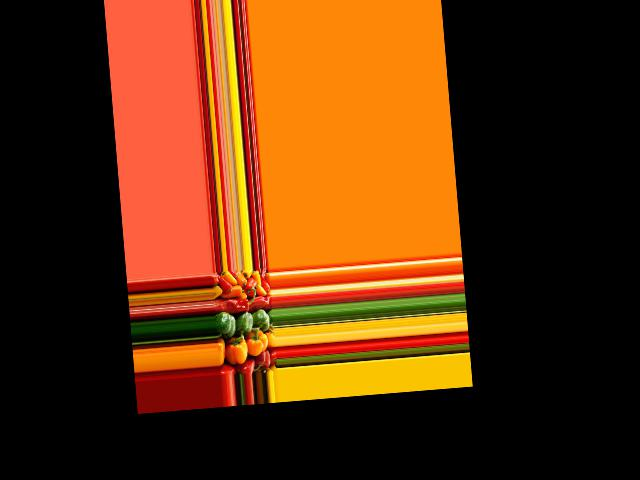bell_pepper: (216, 273, 233, 293)
